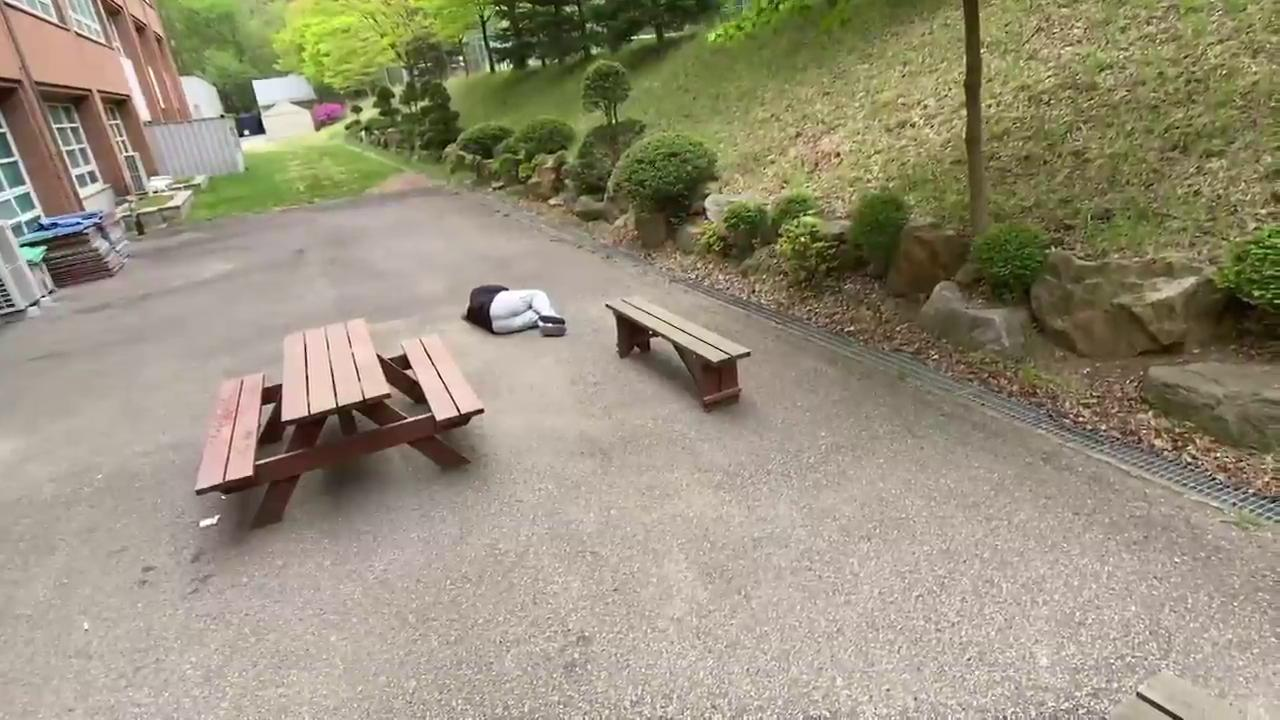faint: (460, 281, 568, 338)
